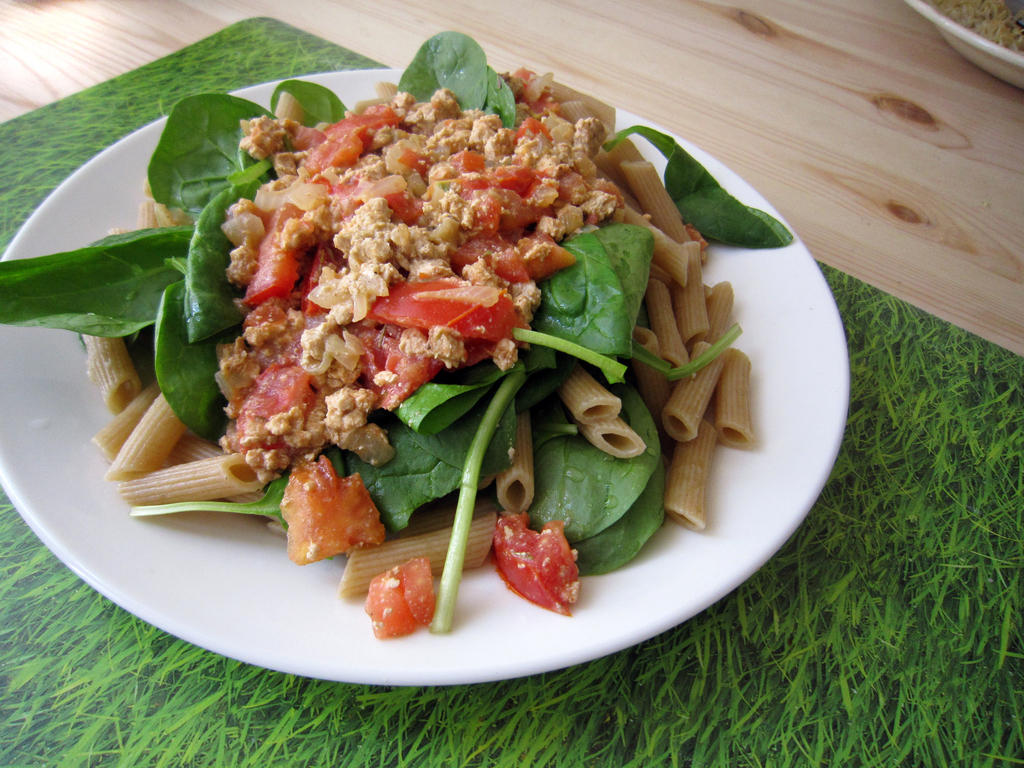salad: (26, 47, 794, 671)
